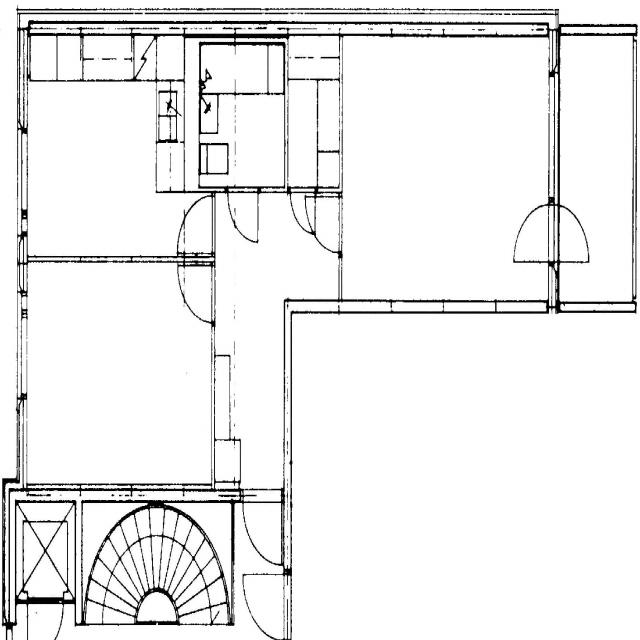door: (242, 489, 282, 566), (513, 204, 559, 262), (549, 204, 595, 262), (176, 264, 215, 323), (176, 195, 215, 253), (304, 196, 342, 253), (228, 186, 259, 241), (290, 185, 315, 232)
